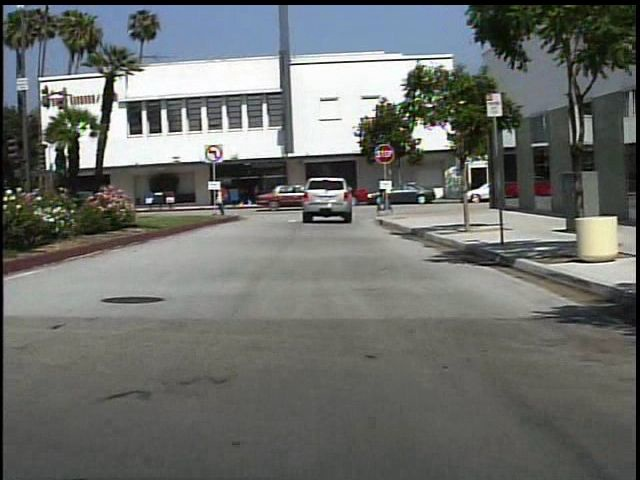person: (374, 174, 397, 218), (217, 187, 233, 218), (252, 179, 269, 206)
